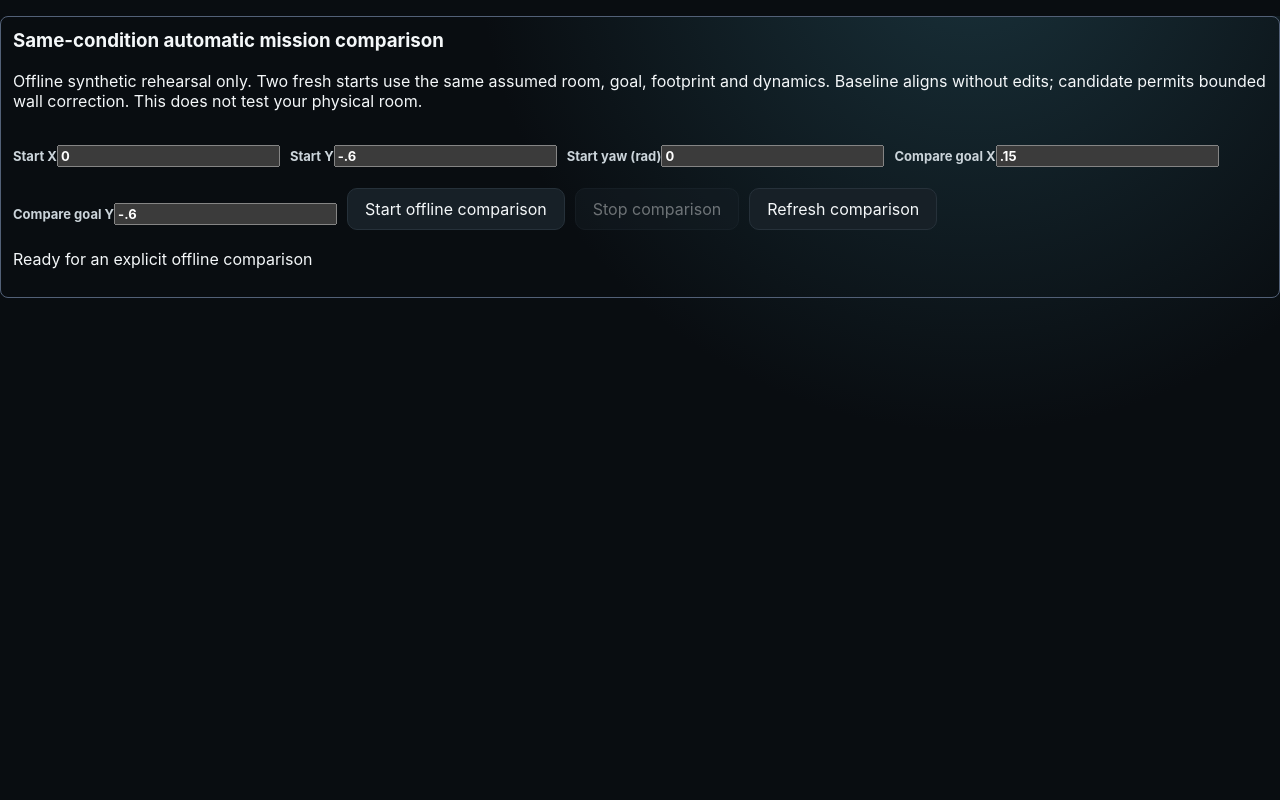
Test: executed automatic comparison › reports request failure as a dialog and allows refresh, not automatic retry
Step 1. Click the button "Start offline comparison" → {"x": 456, "y": 209}, box left=347, top=188, right=565, bottom=230
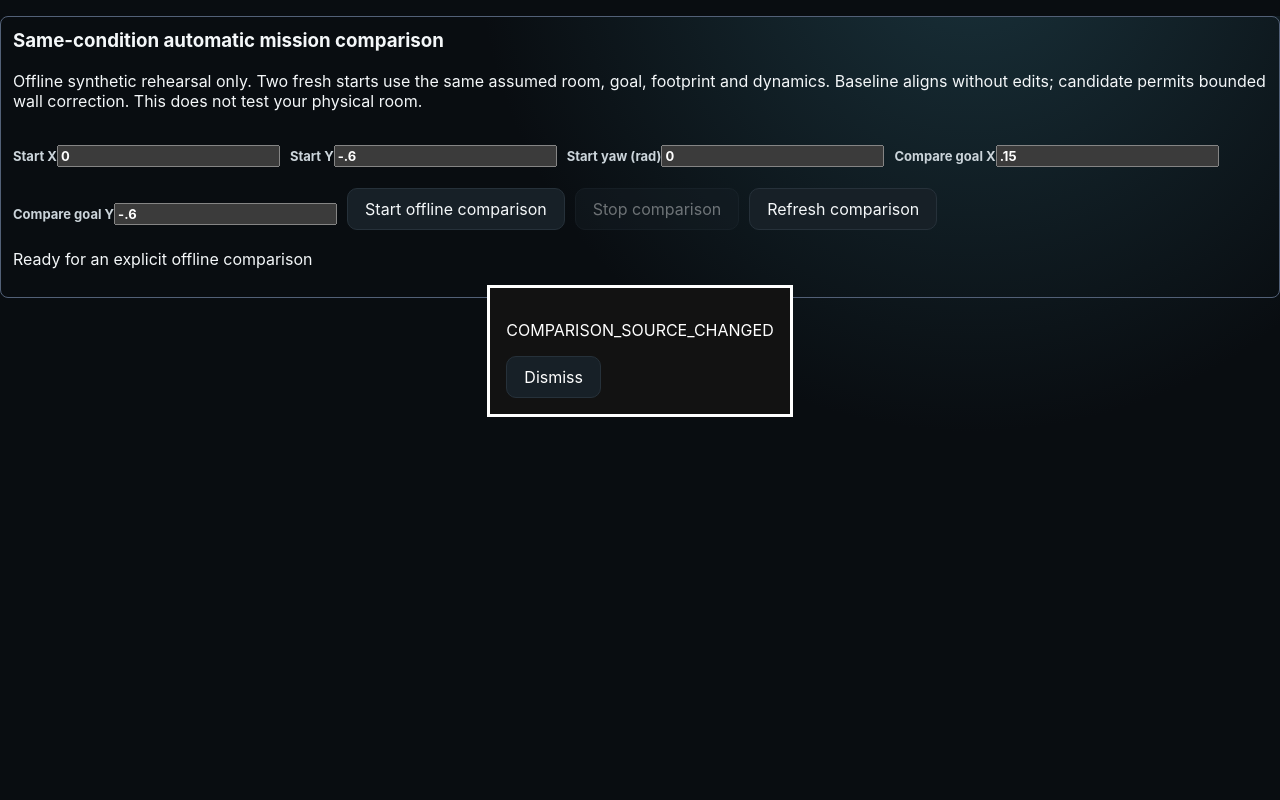
Expected: the dialog is shown, left=487, top=285, right=793, bottom=417
Expected: the text "COMPARISON_SOURCE_CHANGED" is shown, left=506, top=320, right=774, bottom=340
